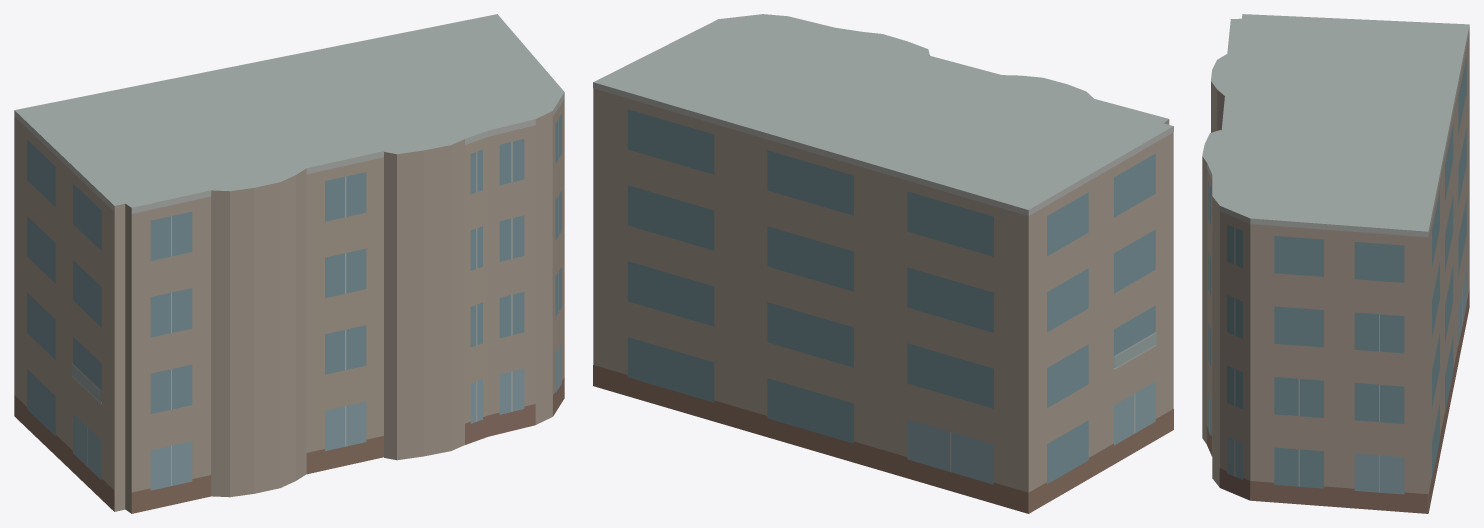
File: survey-upis-32856468.glb
The picture shows the model from 3 angles, left to right: view 1: azimuth 30°, elevation 25°; view 2: azimuth 150°, elevation 25°; view 3: azimuth 270°, elevation 25°; orthographic projection. The views are drawn at different scales.
Parts seen in each view (by area): view 1: survey-upis-32856468.tmp; view 2: survey-upis-32856468.tmp; view 3: survey-upis-32856468.tmp.
Part boxes in pixels (x1,y1,x2,y2): survey-upis-32856468.tmp: (14,14,564,513); survey-upis-32856468.tmp: (593,14,1173,513); survey-upis-32856468.tmp: (1202,14,1469,513).
Size of the model in its own units: 20.2 by 12.2 by 10.49.
